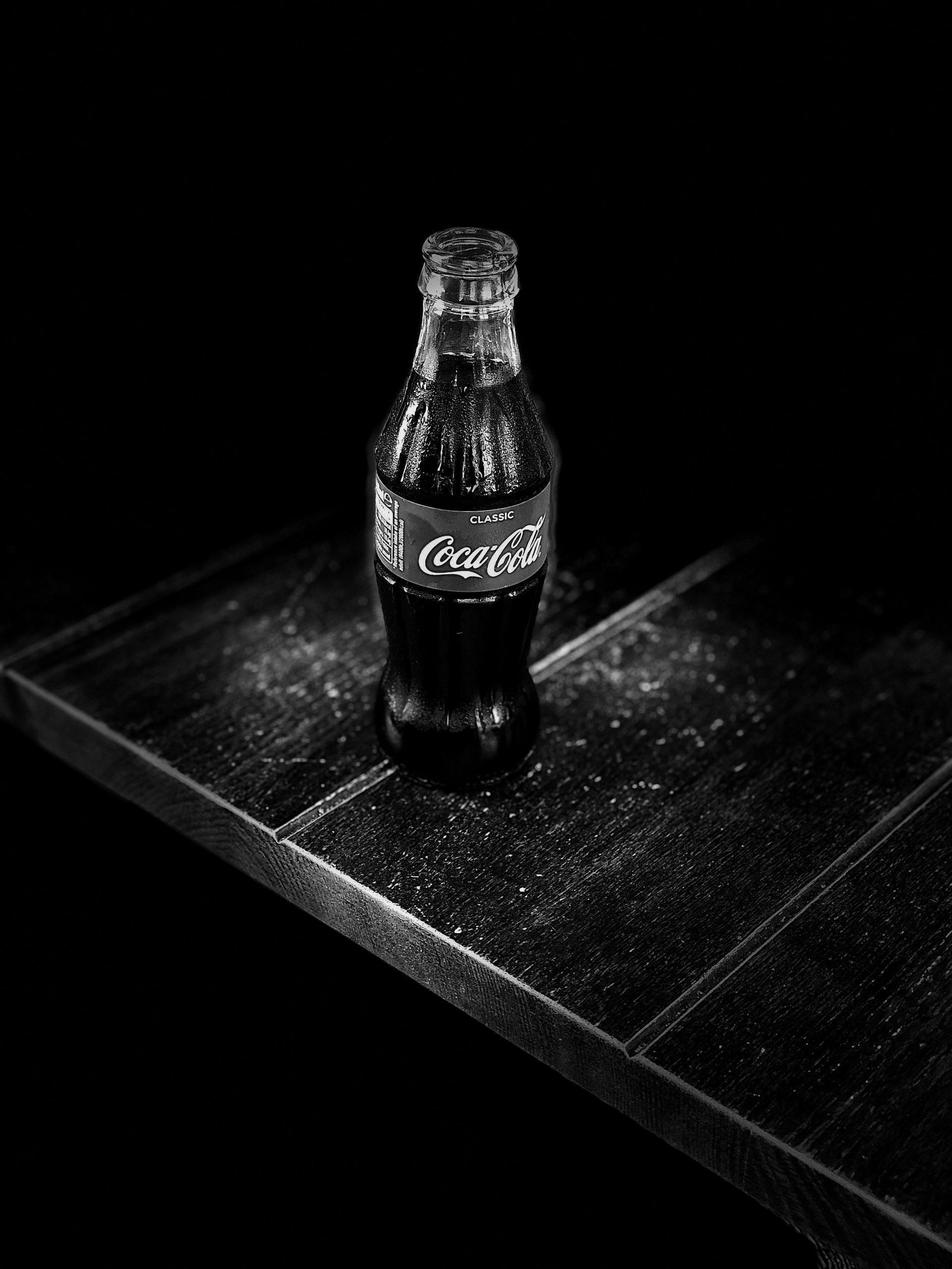bottle-glass: (356, 212, 568, 803)
